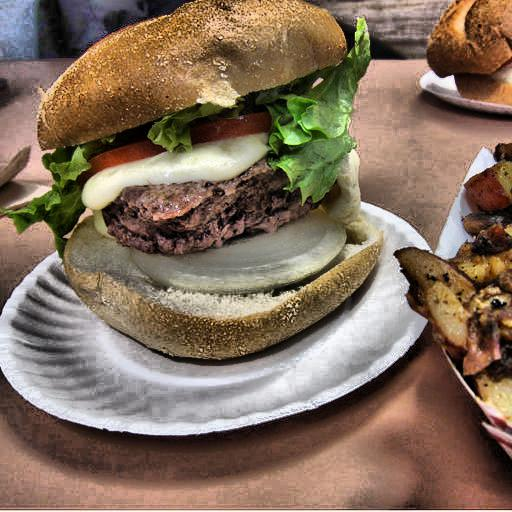burger: (40, 10, 383, 354)
